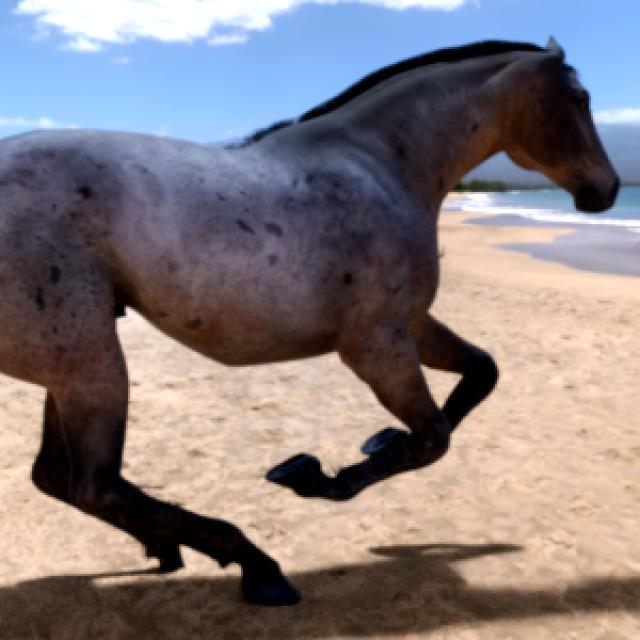horse: (0, 42, 618, 604)
